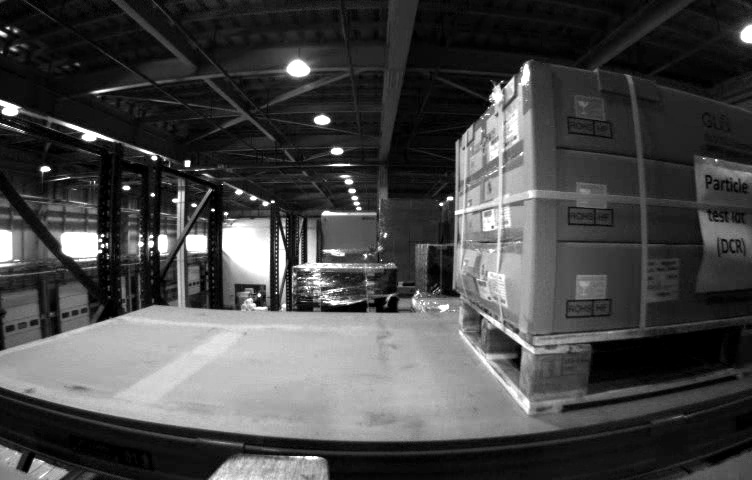True Barcode: (647, 258, 682, 301)
